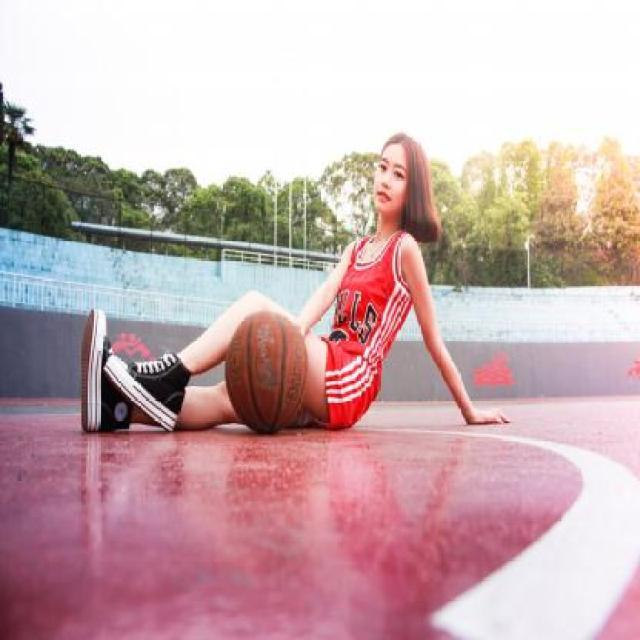basketball: (226, 308, 310, 434)
